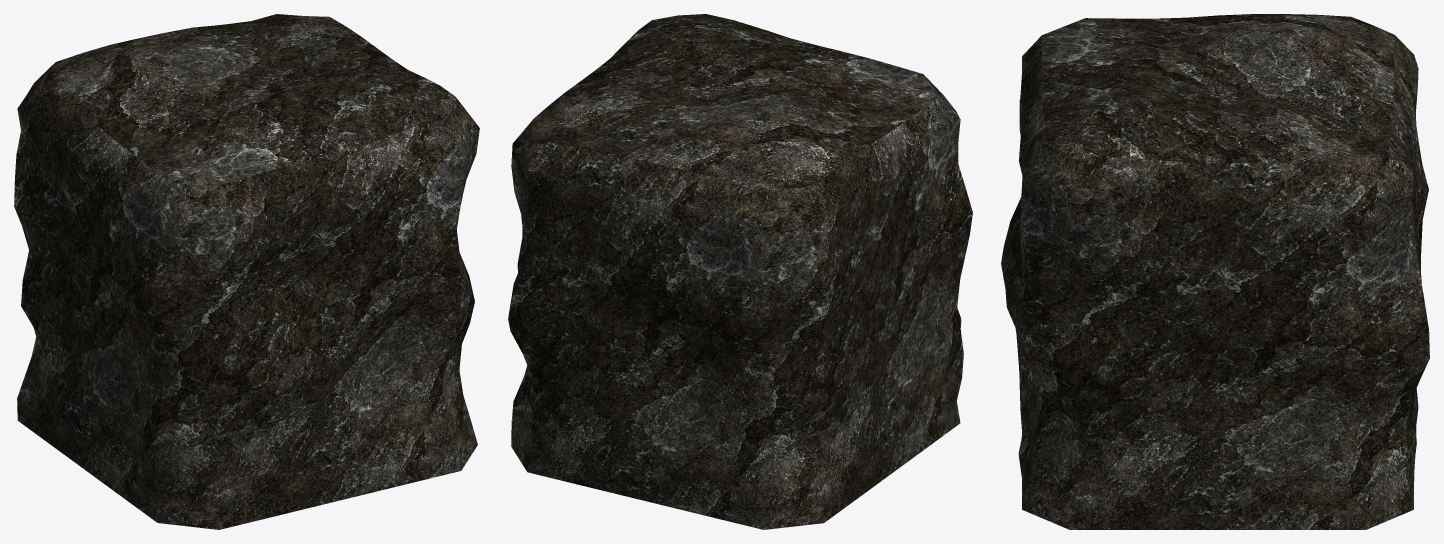
Rendered from Cave_077.fbx.
3 views of the same model, side by side, from view 1: azimuth 30°, elevation 25°; view 2: azimuth 150°, elevation 25°; view 3: azimuth 270°, elevation 25° (orthographic). The views are drawn at different scales.
Visible parts, largest first — view 1: Cave.077; view 2: Cave.077; view 3: Cave.077.
Part boxes in pixels (x1=…): Cave.077: x1=14, y1=14, x2=479, y2=529; Cave.077: x1=508, y1=14, x2=972, y2=529; Cave.077: x1=1001, y1=14, x2=1429, y2=529.
Bounding box in the file's own units: 313 × 326 × 328.
